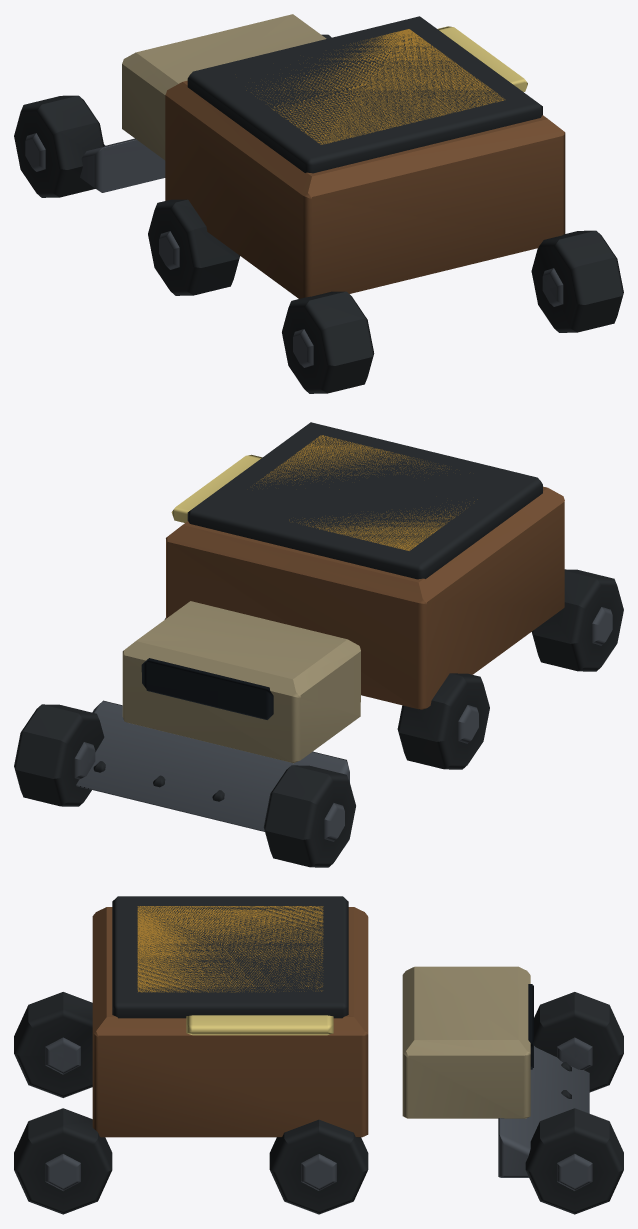
File: harvester.glb
The picture shows the model from 3 angles, top to bottom: view 1: azimuth 30°, elevation 25°; view 2: azimuth 150°, elevation 25°; view 3: azimuth 270°, elevation 25°; orthographic projection. The views are drawn at different scales.
Parts seen in each view (by area): view 1: Body; view 2: Body; view 3: Body.
Boxes of the visible parts, x1,y1,x2,y2 form: Body: (14, 14, 623, 393); Body: (14, 422, 623, 867); Body: (14, 896, 623, 1214).
Size of the model in its own units: 2.88 by 1.87 by 5.21.
